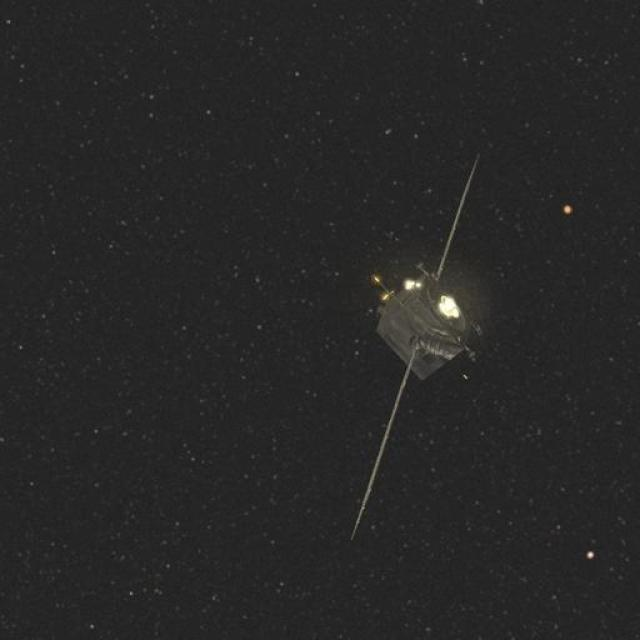smart_1: (321, 180, 530, 540)
